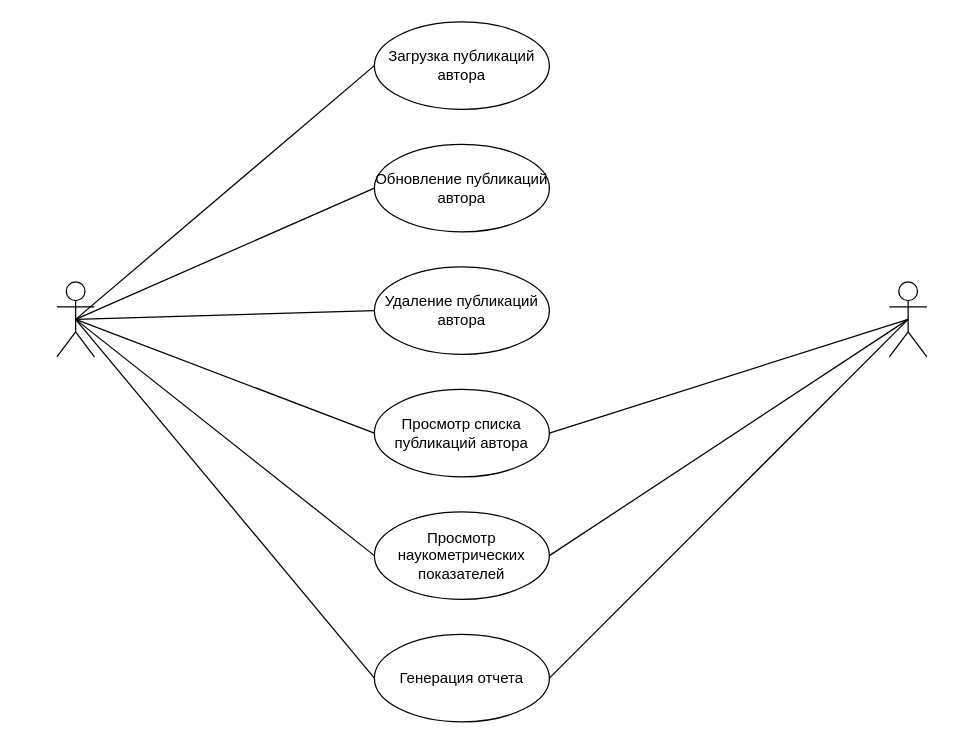
Image size: 979x744. Some labels were removed from this diagram. Each missing label, with the box of its shape:
Администратор: (56, 281, 94, 357)
Пользователь: (888, 281, 927, 357)
